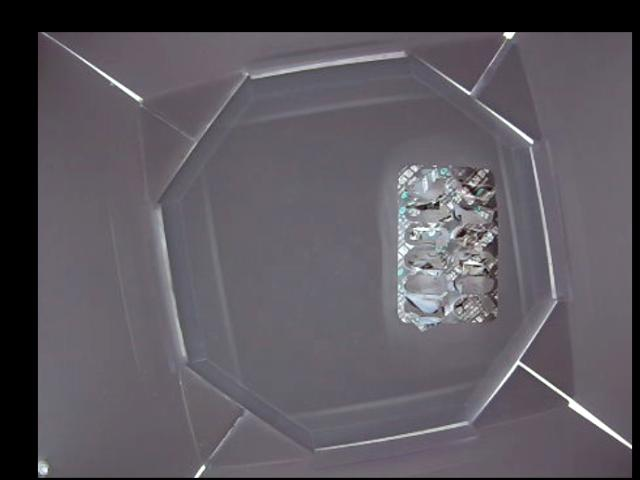Medicine: (397, 161, 502, 327)
